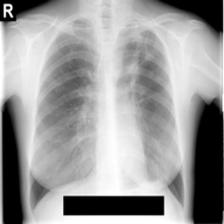tuberculosis: (26, 16, 188, 213)
